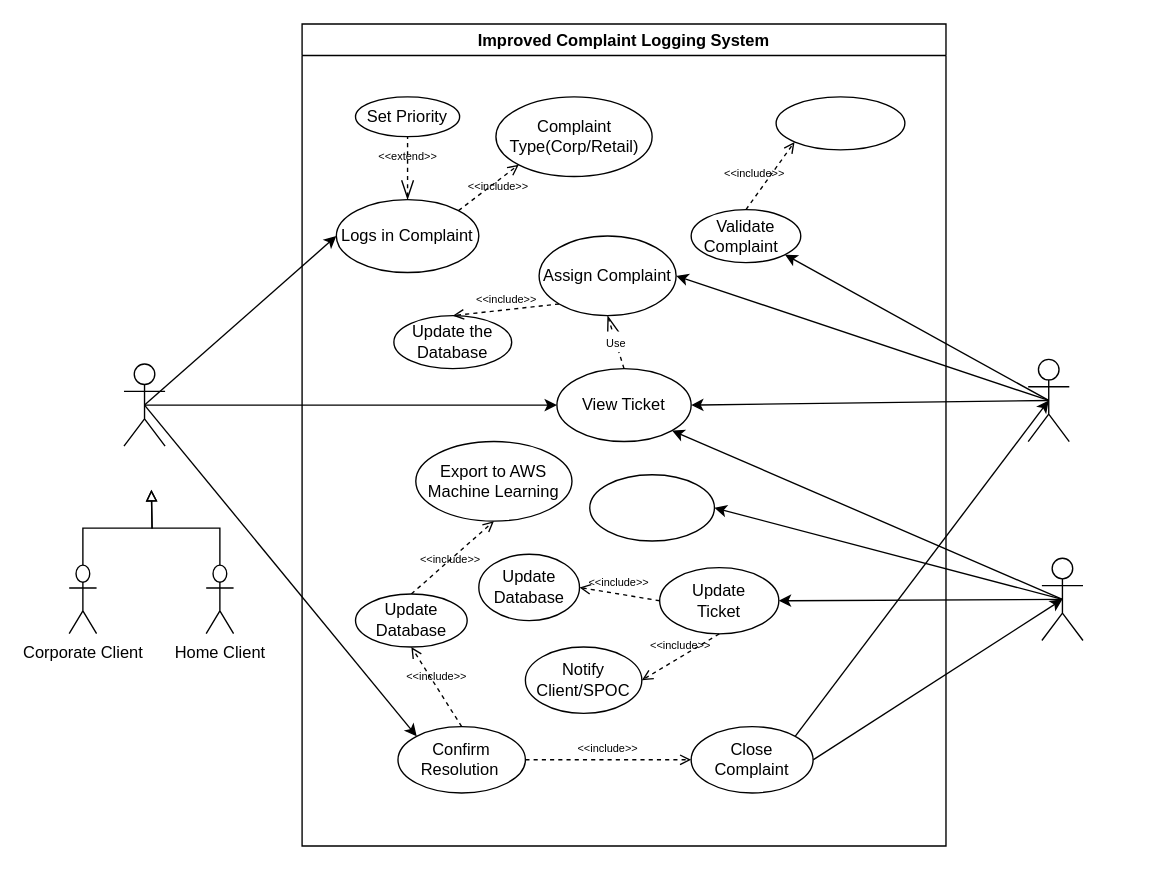
This 1156x870 diagram has some shape labels left out. Each missing label, with the box of its shape:
Add entry in Database: (775, 95, 905, 150)
Client: (123, 363, 165, 446)
Resolve Outage: (588, 473, 714, 541)
Single Point of Contact (SPOC): (1027, 358, 1069, 442)
Technical Team: (1041, 557, 1083, 640)
